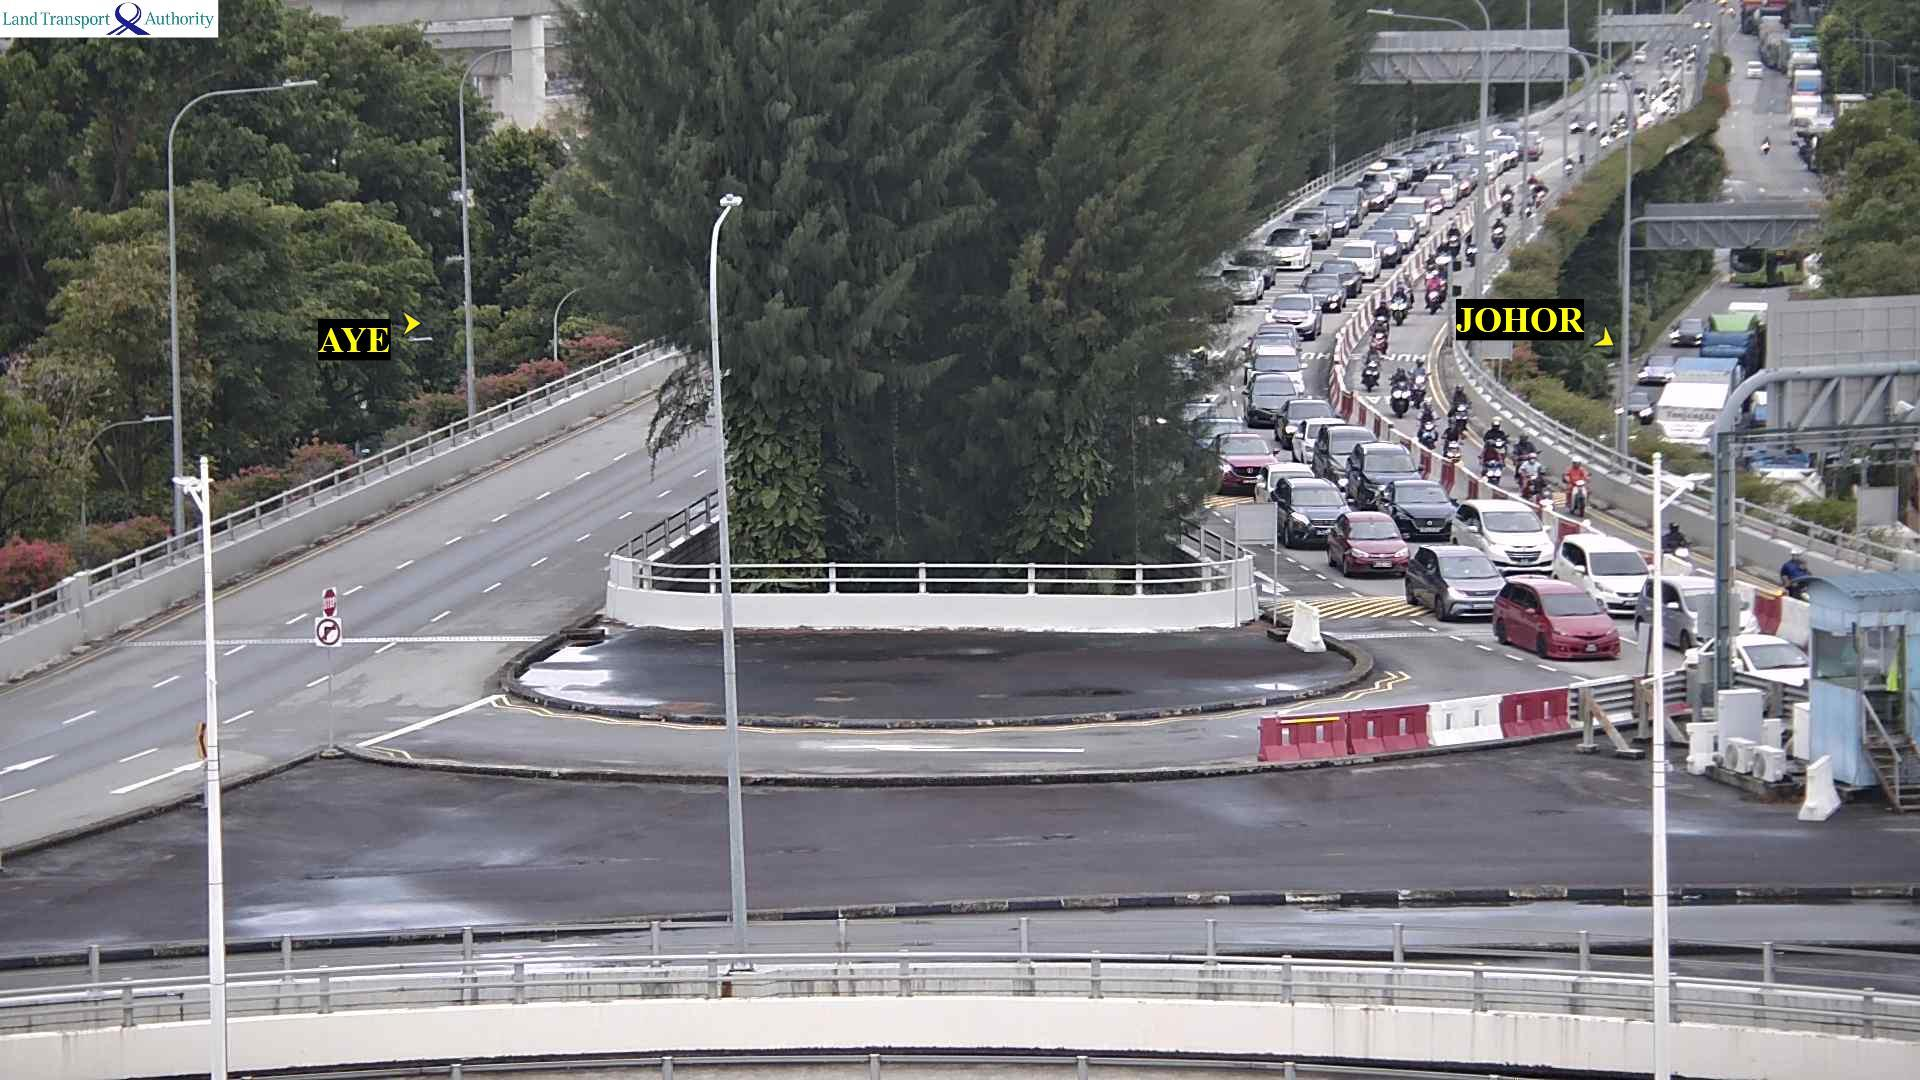vehicle-secondlink-johor: (1497, 583, 1638, 657), (1432, 505, 1594, 566), (1408, 551, 1516, 620), (1680, 636, 1813, 683), (1538, 549, 1677, 591), (1643, 585, 1753, 633), (1367, 483, 1472, 529), (1329, 522, 1416, 572), (1271, 479, 1352, 529), (1346, 447, 1433, 485), (1311, 430, 1393, 469), (1209, 439, 1284, 476), (1269, 404, 1344, 438), (1180, 418, 1254, 448), (1333, 241, 1404, 272), (1263, 295, 1324, 326), (1251, 330, 1316, 356), (1240, 245, 1309, 269), (1246, 388, 1308, 414), (1299, 211, 1358, 237), (1249, 355, 1312, 378), (1783, 555, 1817, 593), (1304, 280, 1342, 309), (1387, 202, 1429, 224), (1377, 222, 1414, 245), (1520, 450, 1544, 485), (1422, 178, 1453, 203), (1486, 422, 1509, 455), (1327, 190, 1360, 211), (1365, 171, 1395, 194), (1443, 137, 1478, 154), (1414, 187, 1440, 208), (1414, 361, 1428, 400), (1382, 161, 1410, 181), (1573, 112, 1597, 135), (1465, 156, 1495, 173), (1452, 382, 1466, 418), (1445, 419, 1458, 458), (1406, 154, 1429, 175), (1495, 137, 1516, 161), (1440, 167, 1469, 185), (1427, 269, 1440, 305), (1514, 135, 1536, 154), (1395, 284, 1407, 320), (1364, 356, 1378, 384), (1371, 326, 1386, 353), (1394, 372, 1404, 406), (1360, 185, 1382, 200), (1489, 144, 1509, 161), (1423, 406, 1433, 438), (1374, 302, 1389, 324), (1532, 181, 1547, 203), (1491, 218, 1505, 241), (1501, 186, 1513, 208), (1449, 224, 1458, 251), (1468, 232, 1474, 257), (1567, 154, 1573, 171)
